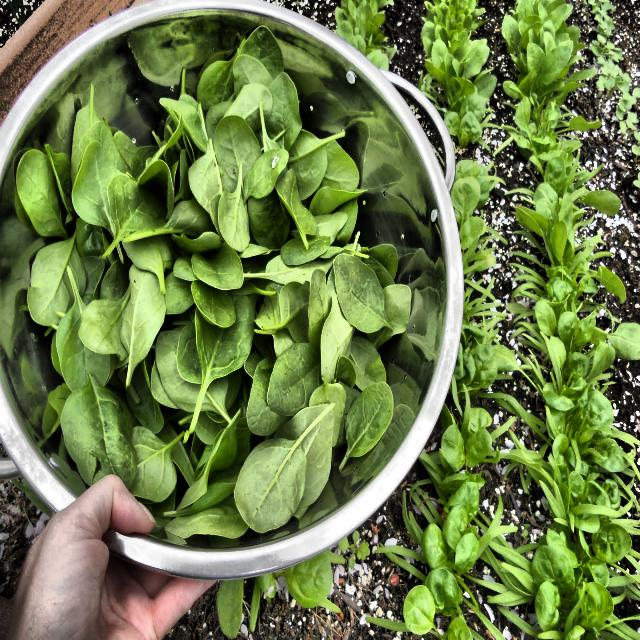spinach: (83, 95, 346, 472)
